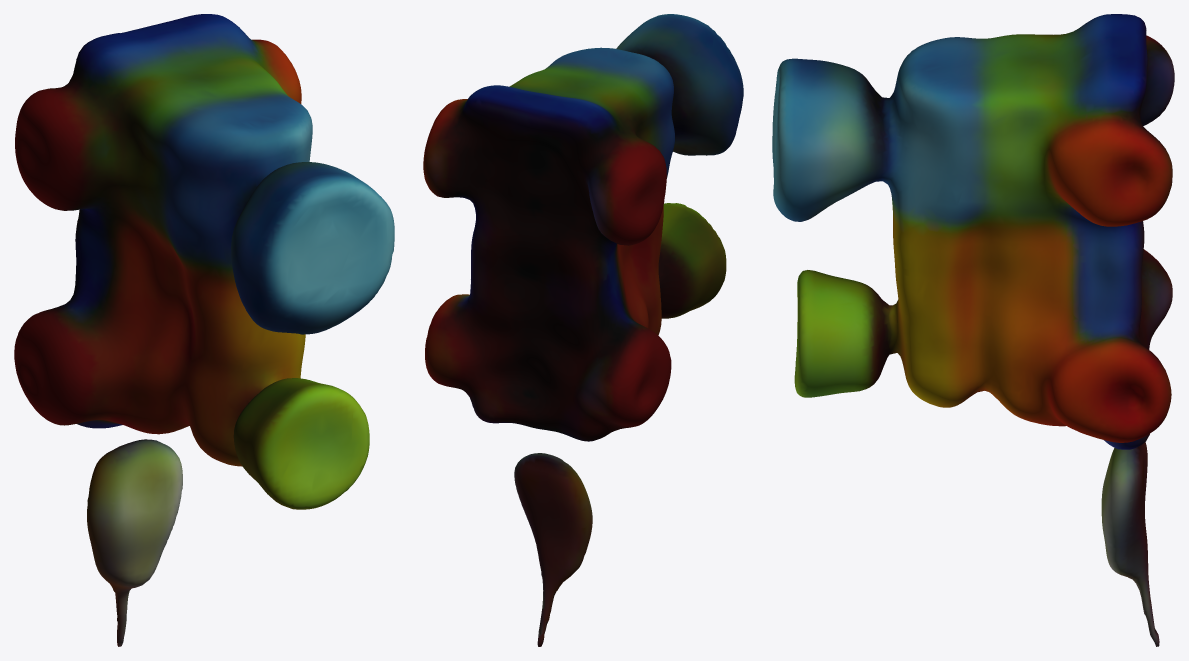
File: train.glb
The picture shows the model from 3 angles, left to right: view 1: azimuth 30°, elevation 25°; view 2: azimuth 150°, elevation 25°; view 3: azimuth 270°, elevation 25°; orthographic projection. The views are drawn at different scales.
Bounding box in the file's own units: 0.4211 × 0.9974 × 0.5919.
